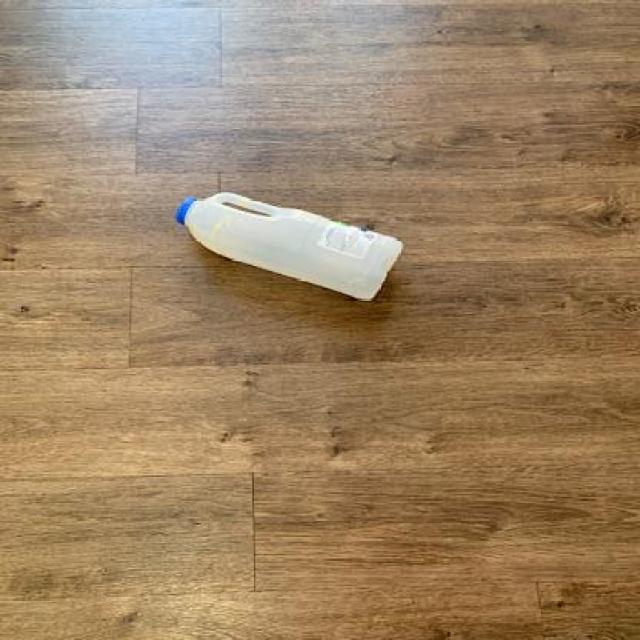trash: (170, 191, 410, 304)
